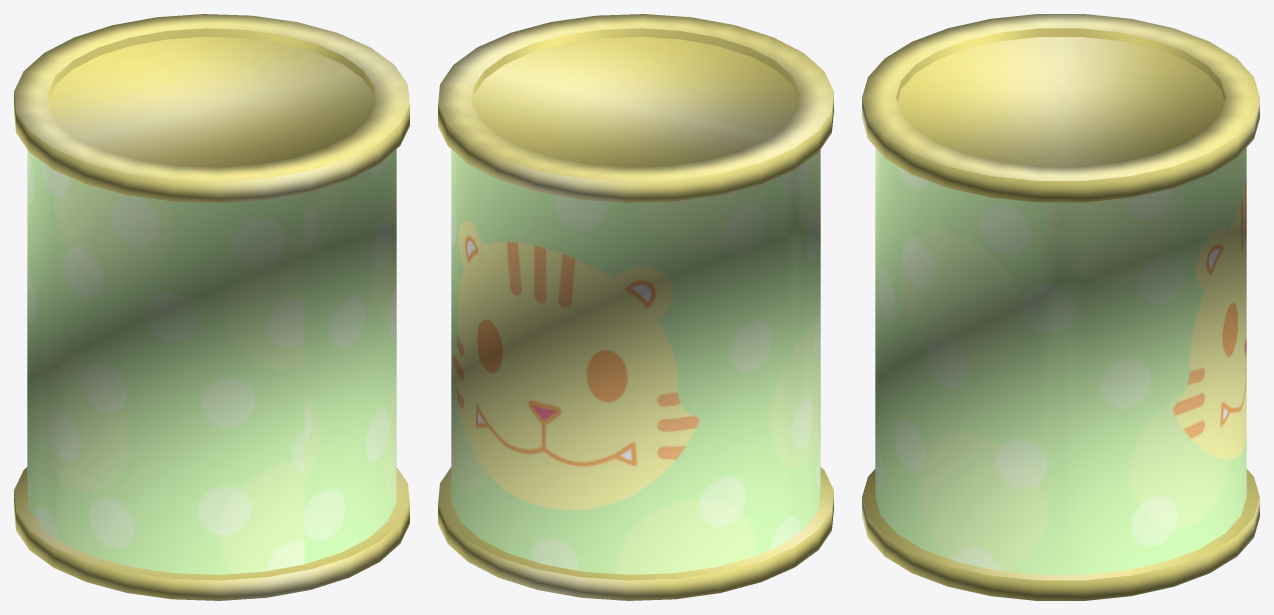
The model's file is Jar4.glb.
3 renders of one model, left to right at view 1: azimuth 30°, elevation 25°; view 2: azimuth 150°, elevation 25°; view 3: azimuth 270°, elevation 25°, orthographic.
Visible parts, largest first — view 1: jar; view 2: jar; view 3: jar.
Boxes of the visible parts, left/top/right/bottom form: jar: left=14, top=14, right=409, bottom=600; jar: left=438, top=14, right=833, bottom=600; jar: left=862, top=14, right=1259, bottom=600.
Size of the model in its own units: 1.33 by 1.56 by 1.34.
1 material, 1 textured.
